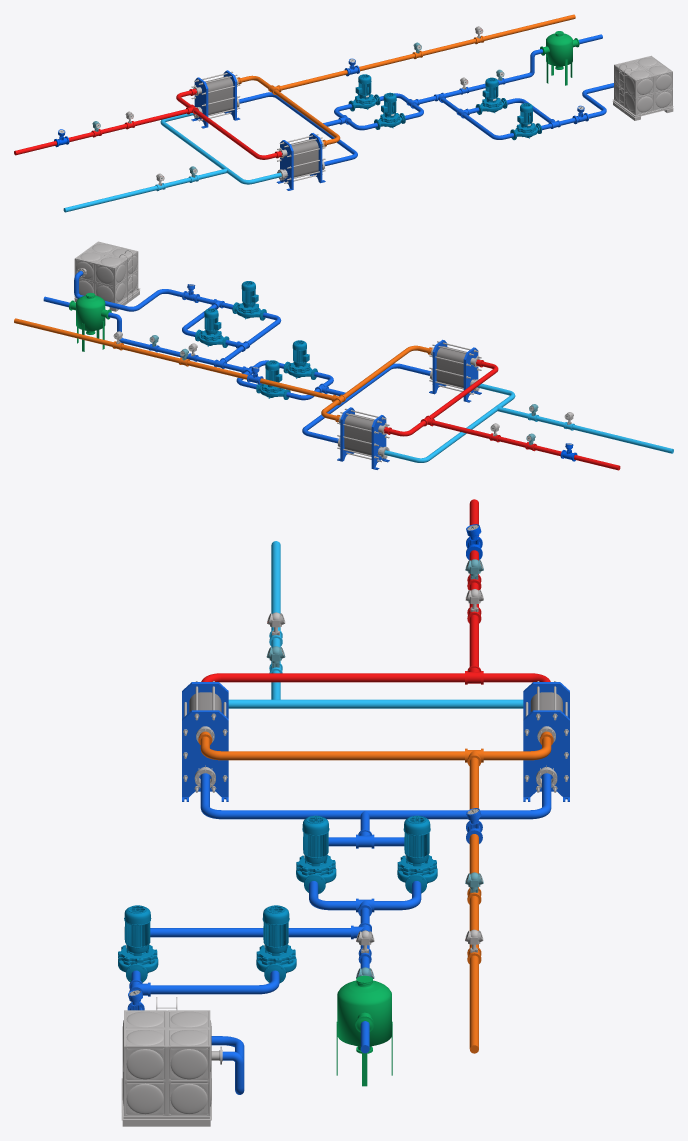
The model's file is 无标题.glb.
3 renders of one model, top to bottom at view 1: azimuth 30°, elevation 25°; view 2: azimuth 150°, elevation 25°; view 3: azimuth 270°, elevation 25°, orthographic. The views are drawn at different scales.
Parts seen in each view (by area): view 1: Obj3d66-10460274-58-494, Obj3d66-10460274-66-847, Obj3d66-10460274-57-405, Obj3d66-10460274-56-583, Obj3d66-10460274-55-798, Obj3d66-10460274-54-703, Obj3d66-10460274-70-456, Obj3d66-10460274-73-28, Obj3d66-10460274-69-697, Obj3d66-10460274-72-548, Obj3d66-10460274-68-590, Obj3d66-10460274-71-110; view 2: Obj3d66-10460274-58-494, Obj3d66-10460274-66-847, Obj3d66-10460274-57-405, Obj3d66-10460274-56-583, Obj3d66-10460274-55-798, Obj3d66-10460274-54-703, Obj3d66-10460274-73-28, Obj3d66-10460274-70-456, Obj3d66-10460274-72-548, Obj3d66-10460274-69-697, Obj3d66-10460274-71-110, Obj3d66-10460274-68-590; view 3: Obj3d66-10460274-66-847, Obj3d66-10460274-58-494, Obj3d66-10460274-57-405, Obj3d66-10460274-55-798, Obj3d66-10460274-56-583, Obj3d66-10460274-54-703, Obj3d66-10460274-69-697, Obj3d66-10460274-72-548, Obj3d66-10460274-68-590.
Part boxes in pixels (x1,y1,x2,y2): Obj3d66-10460274-58-494: (238, 34, 613, 165); Obj3d66-10460274-66-847: (612, 55, 673, 120); Obj3d66-10460274-57-405: (241, 14, 575, 144); Obj3d66-10460274-56-583: (63, 113, 281, 212); Obj3d66-10460274-55-798: (14, 90, 277, 159); Obj3d66-10460274-54-703: (540, 31, 579, 85); Obj3d66-10460274-70-456: (290, 138, 318, 177); Obj3d66-10460274-73-28: (205, 76, 233, 114); Obj3d66-10460274-69-697: (276, 133, 325, 190); Obj3d66-10460274-72-548: (191, 70, 240, 128); Obj3d66-10460274-68-590: (277, 134, 325, 183); Obj3d66-10460274-71-110: (191, 71, 240, 121); Obj3d66-10460274-58-494: (43, 271, 430, 442); Obj3d66-10460274-66-847: (74, 241, 140, 311); Obj3d66-10460274-57-405: (14, 318, 428, 420); Obj3d66-10460274-56-583: (384, 383, 673, 462); Obj3d66-10460274-55-798: (389, 361, 620, 470); Obj3d66-10460274-54-703: (69, 292, 111, 351); Obj3d66-10460274-73-28: (344, 413, 374, 455); Obj3d66-10460274-70-456: (436, 346, 466, 387); Obj3d66-10460274-72-548: (337, 407, 389, 469); Obj3d66-10460274-69-697: (429, 339, 481, 402); Obj3d66-10460274-71-110: (336, 408, 389, 462); Obj3d66-10460274-68-590: (429, 341, 481, 394); Obj3d66-10460274-66-847: (121, 997, 222, 1126); Obj3d66-10460274-58-494: (131, 773, 551, 1094); Obj3d66-10460274-57-405: (200, 736, 551, 1053); Obj3d66-10460274-55-798: (201, 499, 550, 682); Obj3d66-10460274-56-583: (228, 541, 523, 708); Obj3d66-10460274-54-703: (336, 975, 392, 1086); Obj3d66-10460274-69-697: (182, 682, 228, 801); Obj3d66-10460274-72-548: (523, 682, 569, 801); Obj3d66-10460274-68-590: (183, 681, 227, 792).
Bounding box in the file's own units: 42.99 × 3.43 × 14.74.
